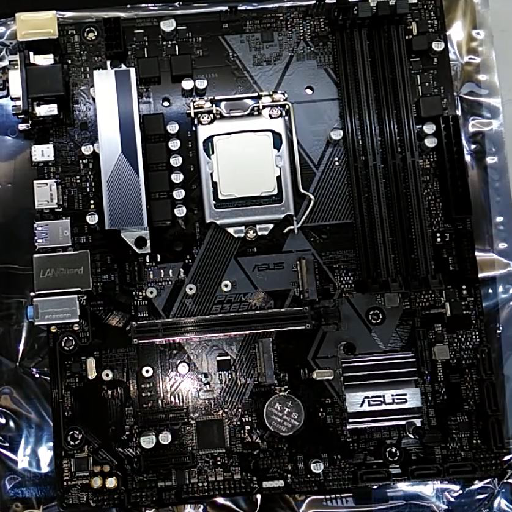CPU: (191, 91, 294, 239)
GPU: (132, 301, 342, 346)
MOTHERBOARD: (20, 1, 505, 510)
RAM: (333, 2, 446, 292)
SSD: (255, 338, 277, 385), (295, 259, 317, 300)
